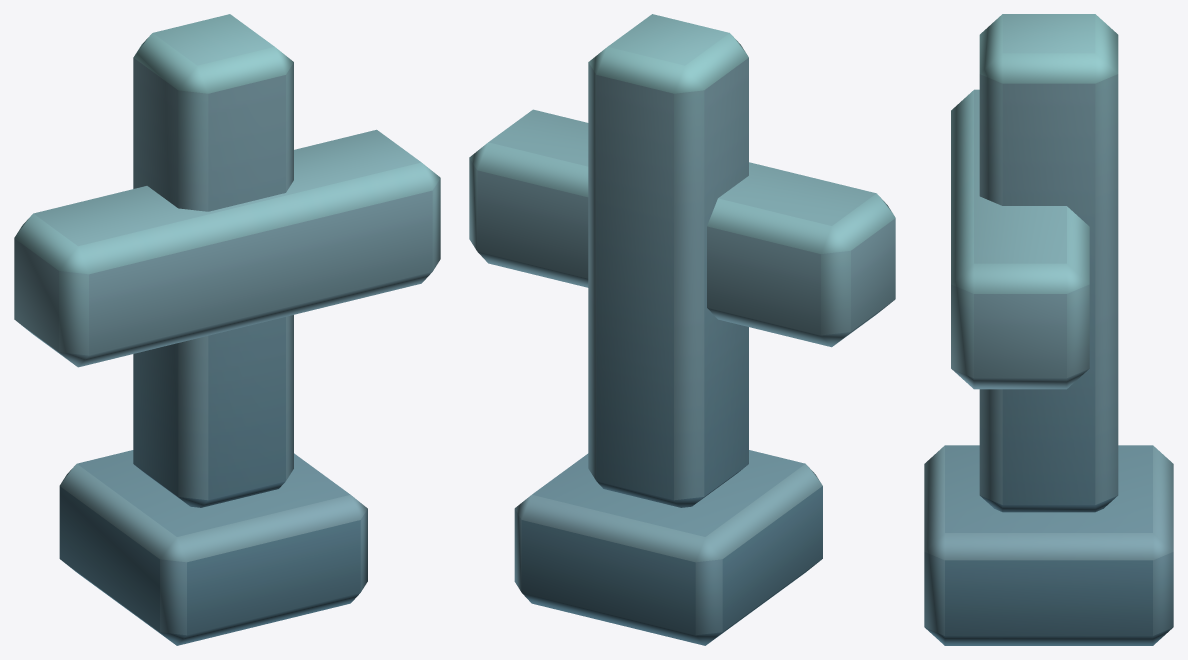
The model's file is cross_stone.fbx.
3 views of the same model, side by side, from view 1: azimuth 30°, elevation 25°; view 2: azimuth 150°, elevation 25°; view 3: azimuth 270°, elevation 25° (orthographic). The views are drawn at different scales.
Parts seen in each view (by area): view 1: cross_stone; view 2: cross_stone; view 3: cross_stone.
Part boxes in pixels (<box>): cross_stone: <box>14,14,440,645</box>; cross_stone: <box>469,14,895,645</box>; cross_stone: <box>924,14,1173,645</box>.
Size of the model in its own units: 80 by 110 by 43.6.
Materials: 1 (1 with a texture image).
